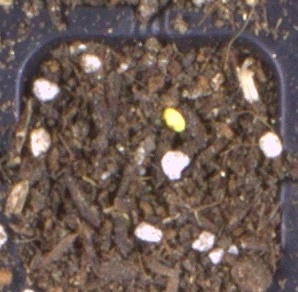chilli seed: (162, 107, 186, 132)
